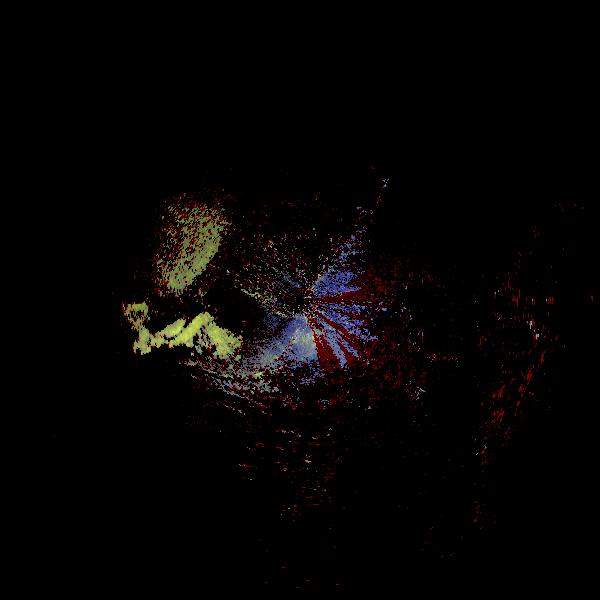roost: (99, 281, 258, 440)
